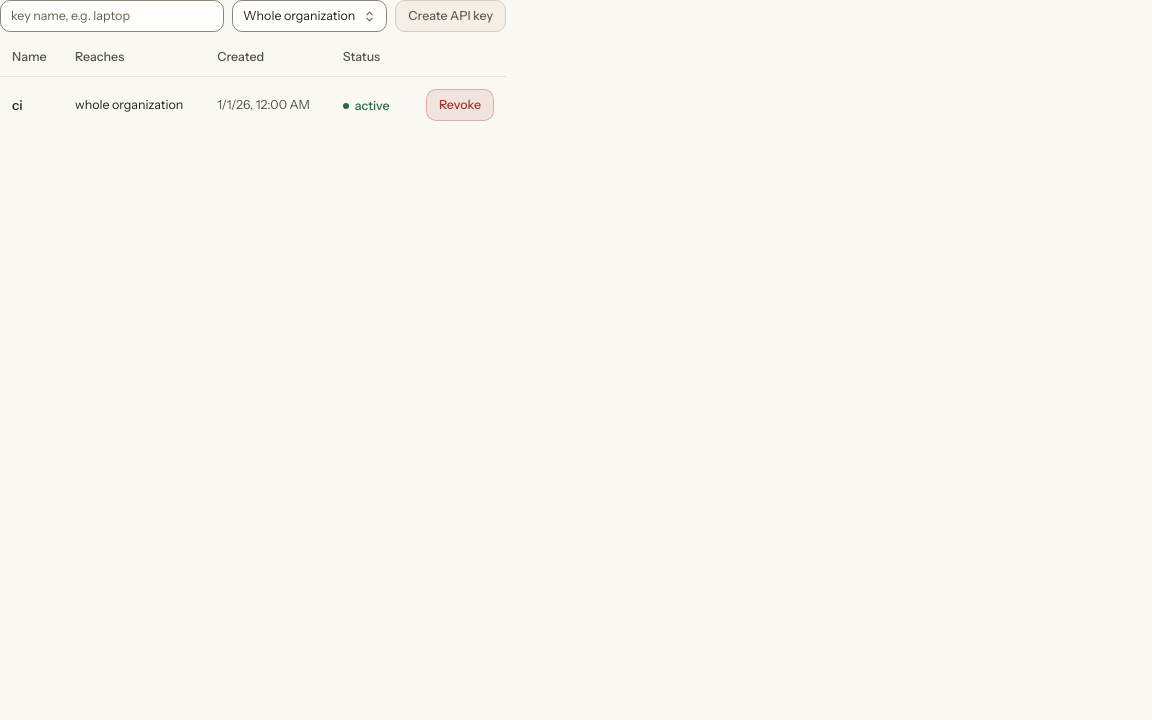
it: revoking an API key › revokes on yes and shows the key as revoked, with nothing left to revoke
Click the button "Revoke" at (460, 105), box [426,89,494,121]
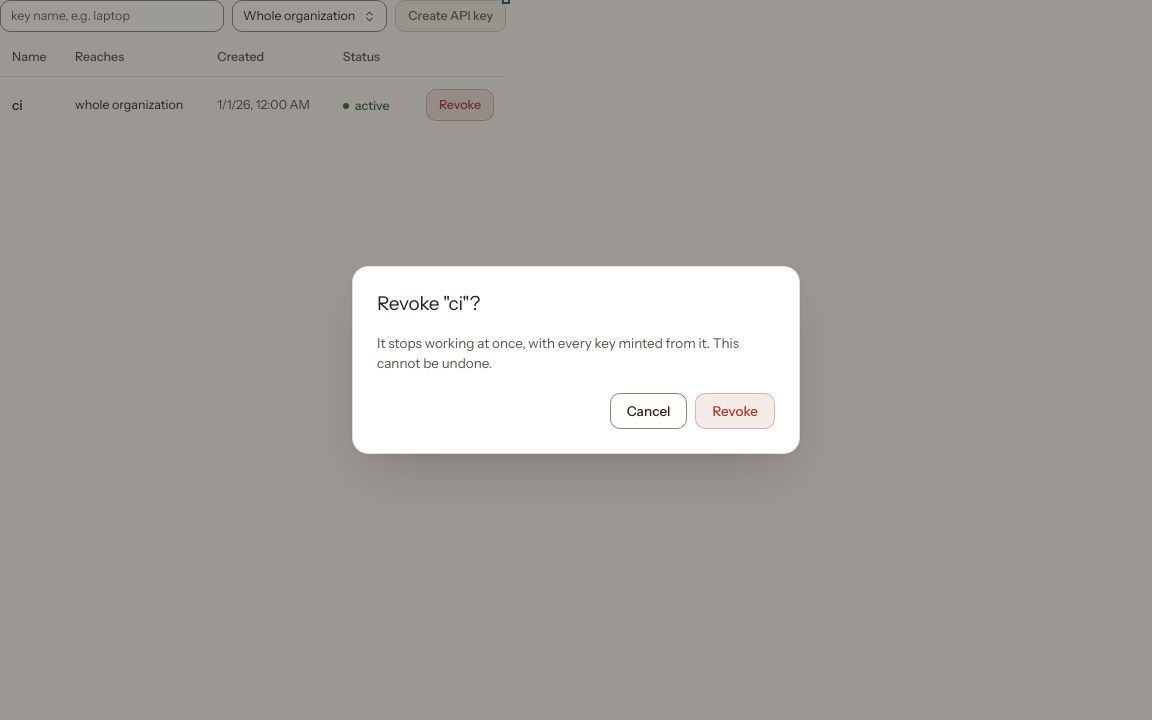
Click the button "Revoke" at (735, 411), box [696,393,775,429]
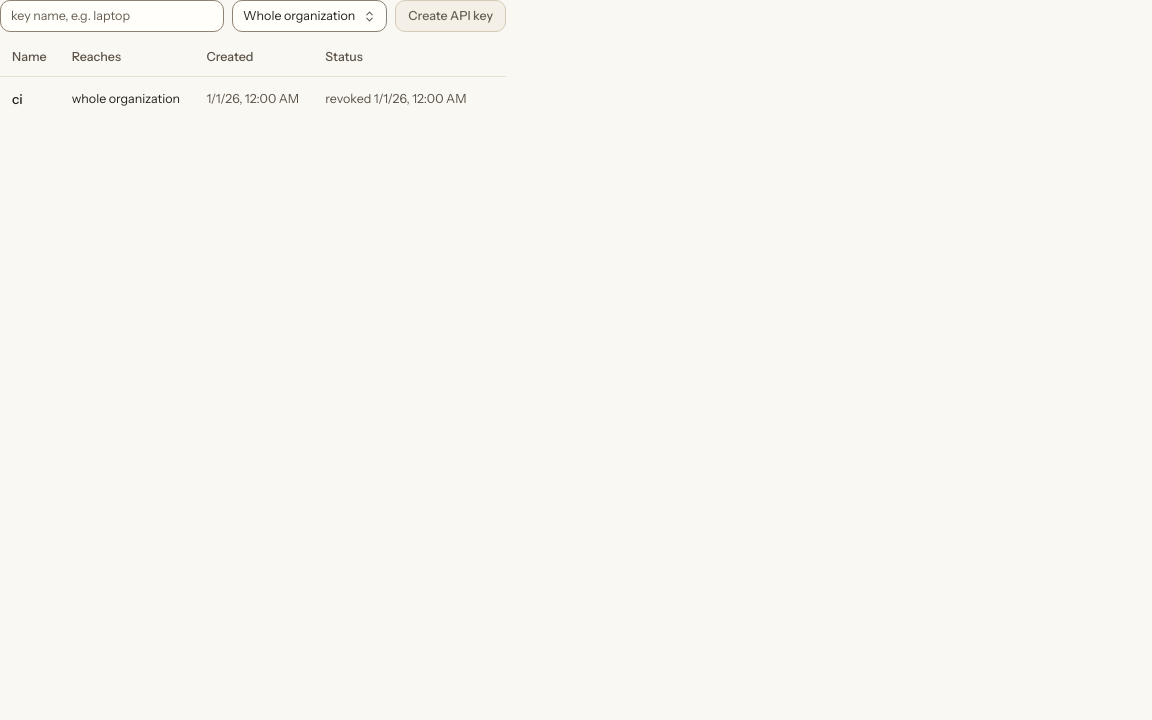
Expected: the text "revoked 1/1/26, 12:00 AM" is shown, [325,91,466,106]
